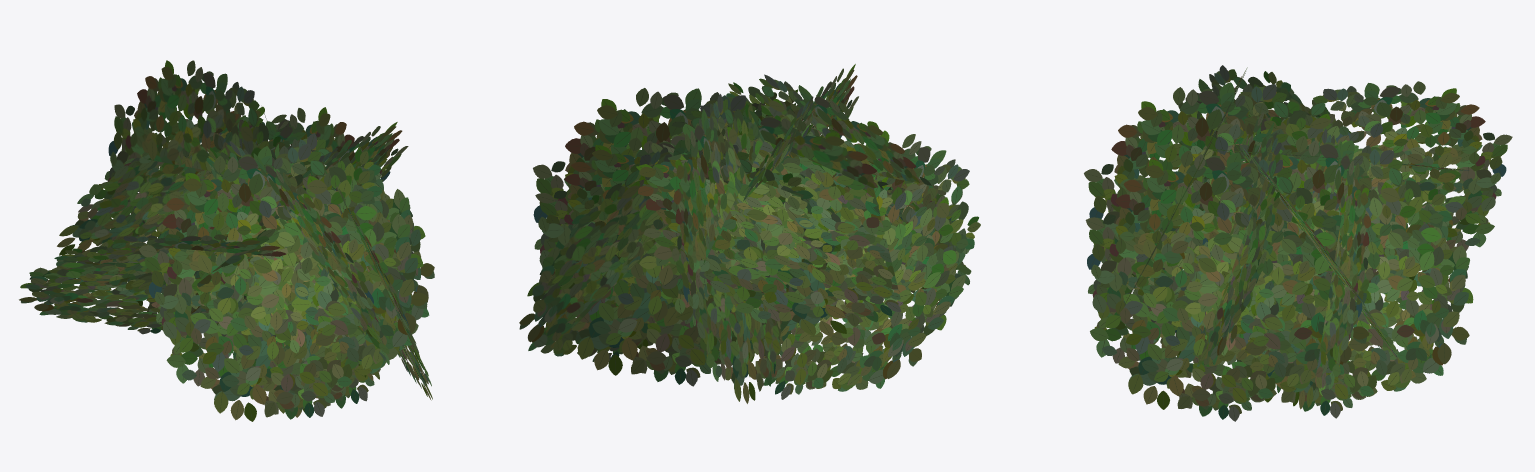
The model's file is Bush_Common_LOD2.gltf.
The picture shows the model from 3 angles, left to right: view 1: azimuth 30°, elevation 25°; view 2: azimuth 150°, elevation 25°; view 3: azimuth 270°, elevation 25°; orthographic projection. The views are drawn at different scales.
Parts seen in each view (by area): view 1: Bush_Common_LOD2; view 2: Bush_Common_LOD2; view 3: Bush_Common_LOD2.
Boxes of the visible parts, box(x1,y1,x2,y2) form: Bush_Common_LOD2: box(19, 60, 434, 421); Bush_Common_LOD2: box(519, 64, 980, 403); Bush_Common_LOD2: box(1084, 65, 1512, 421).
Size of the model in its own units: 2.59 by 1.65 by 2.25.
Materials: 1 (1 with a texture image).
